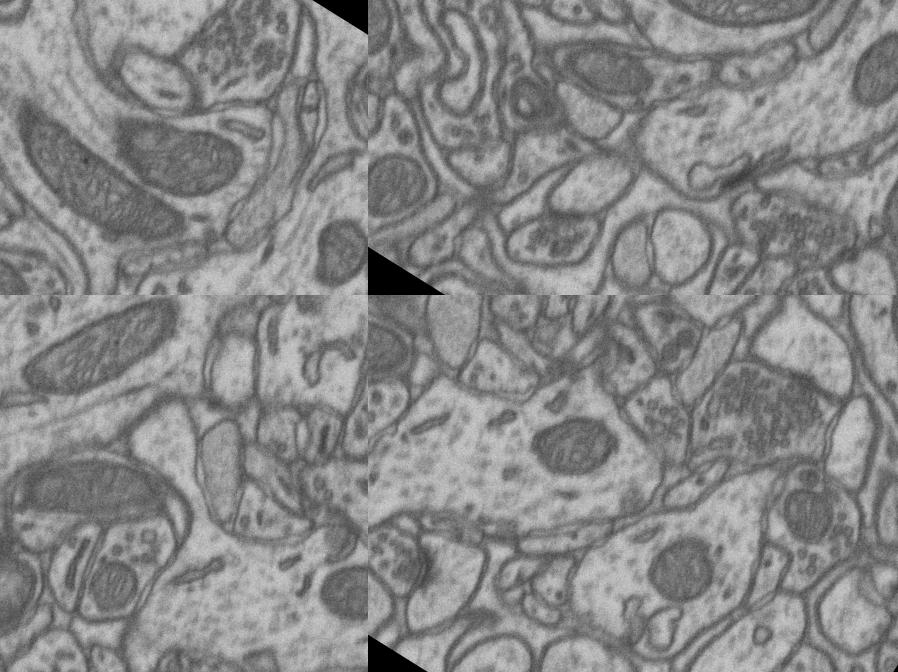mitochondria: (0, 98, 202, 274), (1, 402, 188, 582), (6, 295, 200, 448), (92, 80, 257, 228), (643, 0, 836, 76), (518, 384, 636, 502), (629, 508, 743, 624), (553, 19, 667, 123), (759, 468, 855, 562), (368, 131, 445, 238), (300, 535, 368, 654), (829, 14, 898, 127), (70, 544, 155, 633), (0, 531, 58, 653), (368, 295, 424, 418), (294, 205, 368, 295), (859, 127, 898, 277), (368, 0, 418, 81), (0, 231, 42, 295), (368, 390, 388, 483)
